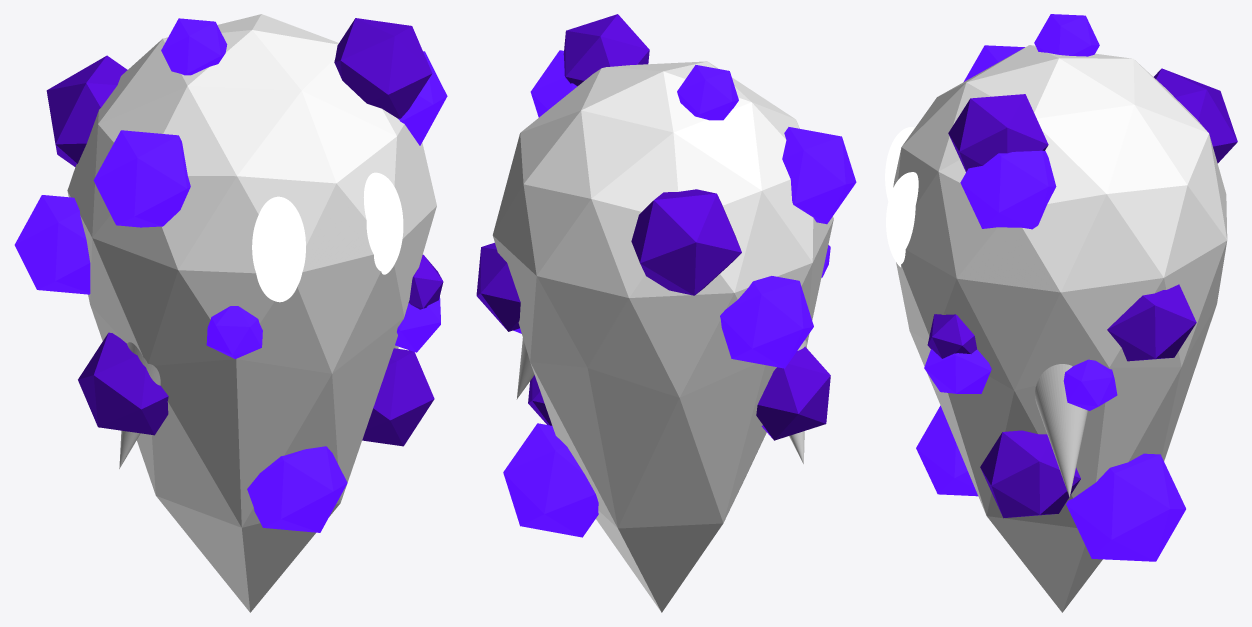
Rendered from Forma_Glitch.glb.
The picture shows the model from 3 angles, left to right: view 1: azimuth 30°, elevation 25°; view 2: azimuth 150°, elevation 25°; view 3: azimuth 270°, elevation 25°; orthographic projection. The views are drawn at different scales.
Visible parts, largest first — view 1: Icosphere.001, Icosphere.002, Icosphere.003, Icosphere, Cone; view 2: Icosphere.001, Icosphere.002, Icosphere.003, Cone; view 3: Icosphere.001, Icosphere.002, Icosphere.003, Cone, Icosphere.
Boxes of the visible parts, x1,y1,x2,y2 form: Icosphere.001: (67, 14, 436, 612); Icosphere.002: (14, 18, 447, 532); Icosphere.003: (46, 18, 443, 446); Icosphere: (252, 172, 403, 302); Cone: (119, 342, 398, 468); Icosphere.001: (492, 61, 833, 612); Icosphere.002: (503, 50, 856, 537); Icosphere.003: (476, 14, 830, 440); Cone: (516, 338, 806, 464); Icosphere.001: (893, 45, 1227, 612); Icosphere.002: (916, 14, 1185, 561); Icosphere.003: (927, 68, 1237, 518); Cone: (1035, 364, 1087, 497); Icosphere: (885, 127, 918, 267).
Size of the model in its own units: 1.36 by 2.17 by 1.22.
